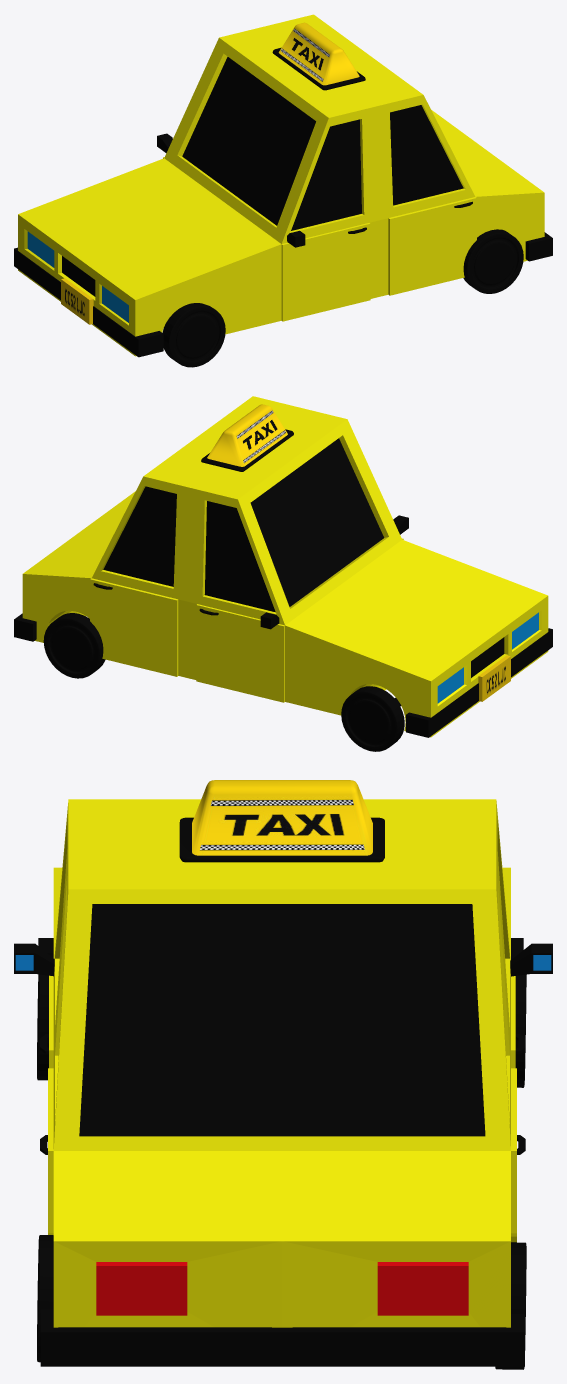
Rendered from TAXI.fbx.
3 renders of one model, top to bottom at view 1: azimuth 30°, elevation 25°; view 2: azimuth 150°, elevation 25°; view 3: azimuth 270°, elevation 25°, orthographic. The views are drawn at different scales.
Visible parts, largest first — view 1: car body, tire front left, tire back left; view 2: car body, tire front right, tire back right; view 3: car body, tire back left, tire back right, tire front left, tire front right.
Part boxes in pixels (x1,y1,x2,y2): car body: (14, 14, 552, 357); tire front left: (162, 303, 225, 367); tire back left: (463, 229, 523, 293); car body: (14, 396, 552, 737); tire front right: (341, 686, 404, 751); tire back right: (43, 613, 105, 678); car body: (14, 780, 552, 1366); tire back left: (37, 1235, 53, 1362); tire back right: (495, 1242, 526, 1369); tire front left: (37, 953, 53, 1080); tire front right: (515, 974, 526, 1087).
Bounding box in the file's own units: 825 × 458 × 472.
9 materials, 2 textured.
